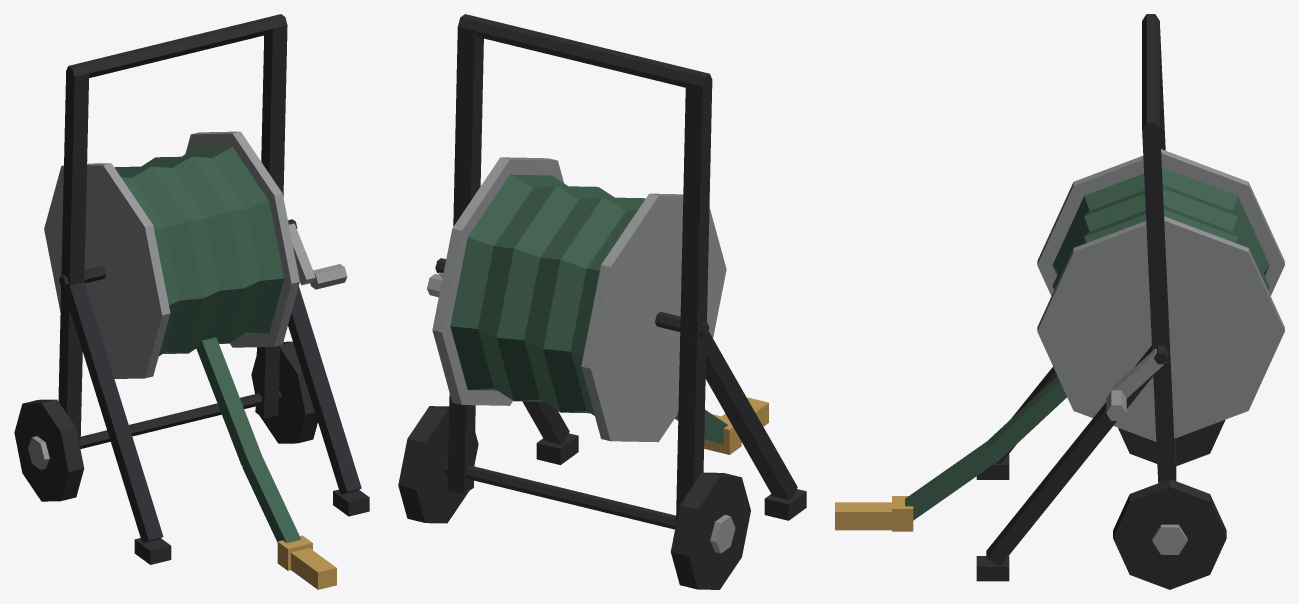
The model's file is FN_Reel_Hose.obj.
3 renders of one model, left to right at view 1: azimuth 30°, elevation 25°; view 2: azimuth 150°, elevation 25°; view 3: azimuth 270°, elevation 25°, orthographic. The views are drawn at different scales.
Visible parts, largest first — view 1: FN_Reel_Hose; view 2: FN_Reel_Hose; view 3: FN_Reel_Hose.
Boxes of the visible parts, bbox=[...] form: FN_Reel_Hose: bbox=[14, 14, 369, 589]; FN_Reel_Hose: bbox=[398, 14, 806, 589]; FN_Reel_Hose: bbox=[835, 14, 1284, 589].
Size of the model in its own units: 0.538 by 0.7981 by 0.712.
Materials: 1 (1 with a texture image).
